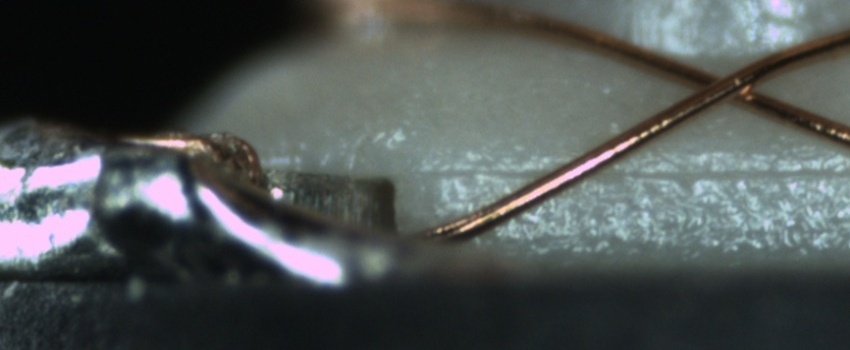CL: (682, 57, 775, 111)
DL: (421, 142, 849, 201)
TE: (109, 124, 264, 189)
